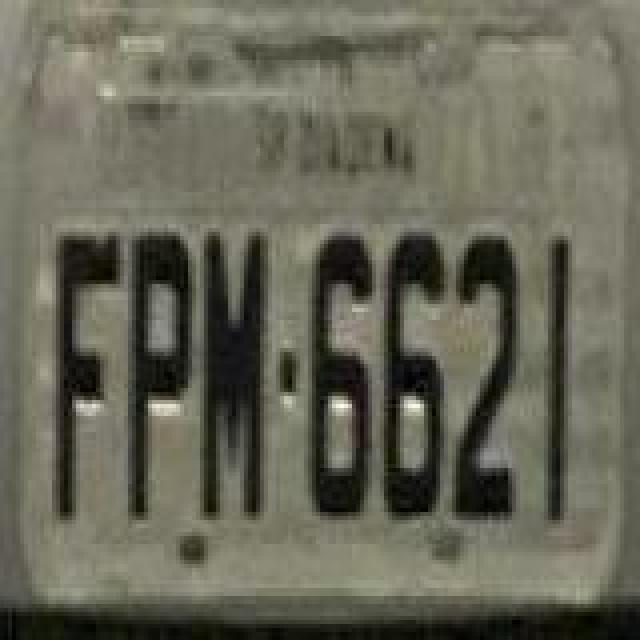1: (546, 234, 574, 526)
2: (456, 234, 520, 526)
6: (312, 230, 376, 522), (384, 230, 448, 522)
F: (54, 226, 122, 534)
M: (198, 226, 266, 526)
P: (126, 230, 194, 530)
